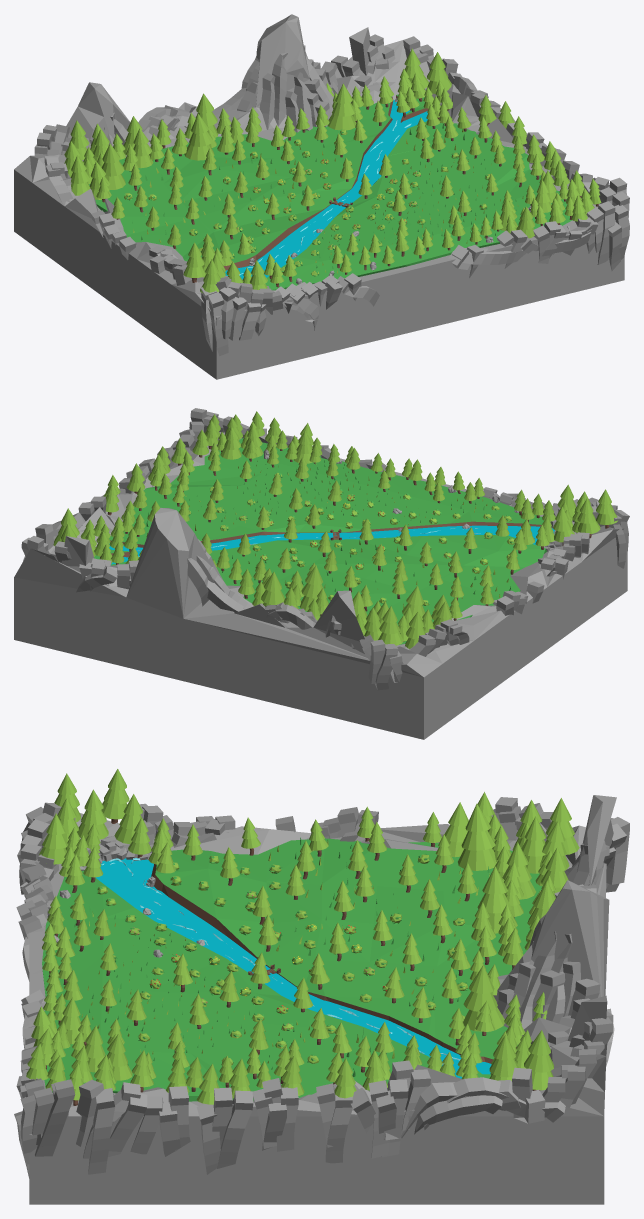
File: CorruptedScene.fbx
The picture shows the model from 3 angles, top to bottom: view 1: azimuth 30°, elevation 25°; view 2: azimuth 150°, elevation 25°; view 3: azimuth 270°, elevation 25°; orthographic projection. The views are drawn at different scales.
Parts seen in each view (by area): view 1: DecayModel, PartialFoliage, PartialBushes; view 2: DecayModel, PartialFoliage, PartialBushes; view 3: DecayModel, PartialFoliage, PartialBushes.
Part boxes in pixels (box(x1,y1,x2,y2)): DecayModel: box(14, 14, 629, 379); PartialFoliage: box(84, 83, 584, 283); PartialBushes: box(163, 140, 500, 266); DecayModel: box(14, 408, 629, 739); PartialFoliage: box(110, 417, 584, 632); PartialBushes: box(189, 469, 491, 591); DecayModel: box(14, 769, 629, 1204); PartialFoliage: box(42, 789, 546, 1090); PartialBushes: box(81, 856, 436, 1060).
Size of the model in its own units: 480 by 168 by 424.
